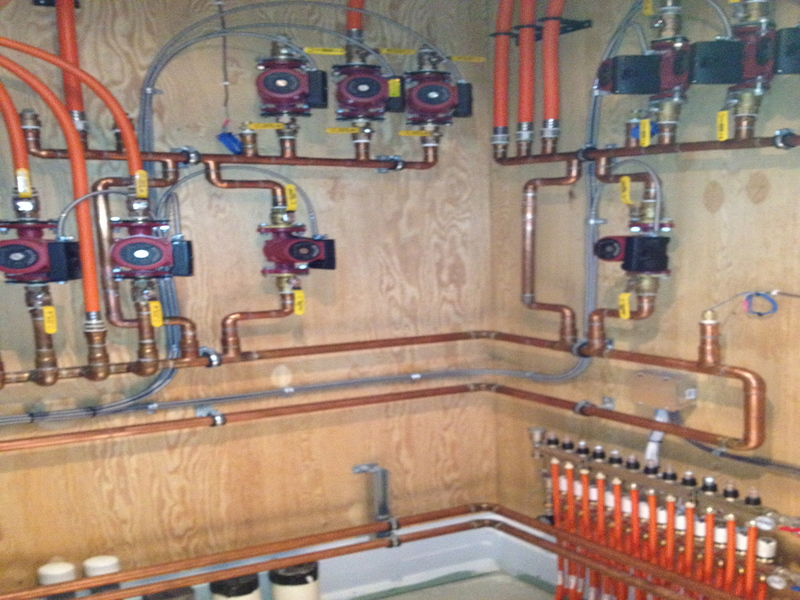valve: (617, 91, 700, 158), (607, 266, 670, 333), (711, 84, 768, 144), (128, 274, 172, 345), (611, 177, 660, 234), (257, 39, 370, 61), (342, 36, 417, 69), (8, 167, 51, 220), (278, 272, 316, 330), (225, 114, 303, 141), (416, 41, 489, 69), (35, 286, 69, 344), (276, 175, 311, 230), (125, 162, 153, 225), (635, 2, 686, 32), (317, 120, 389, 141), (395, 126, 452, 143)
